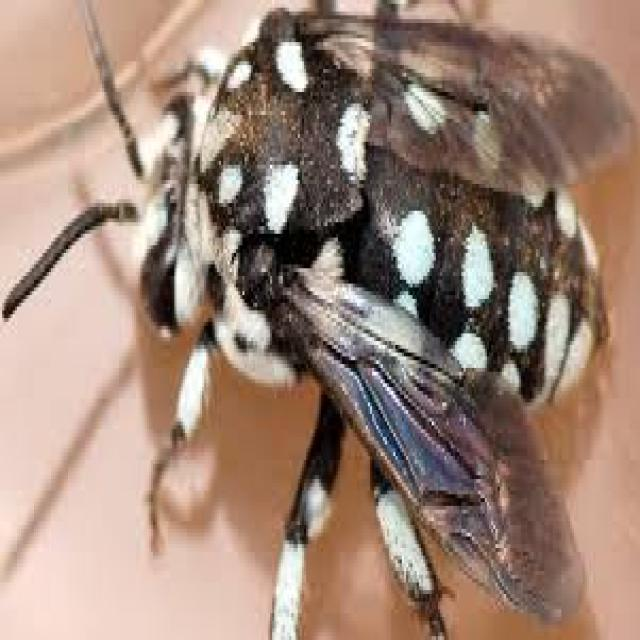Thyreus: (66, 0, 629, 640)
